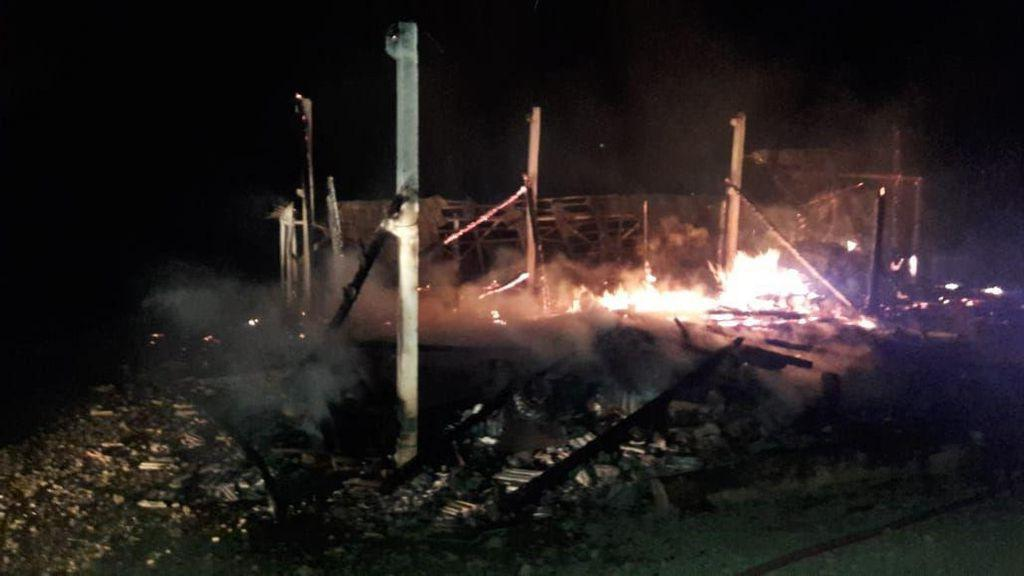Fire: (570, 244, 818, 326), (844, 310, 880, 331)
